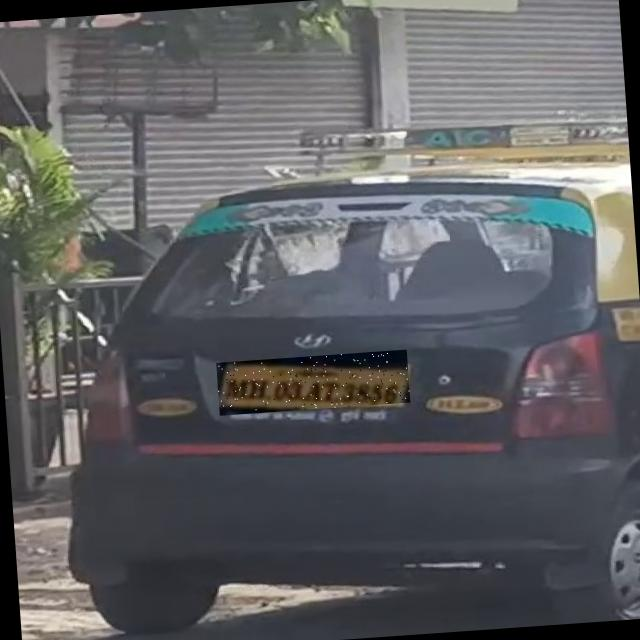Plate: (217, 350, 411, 416)
